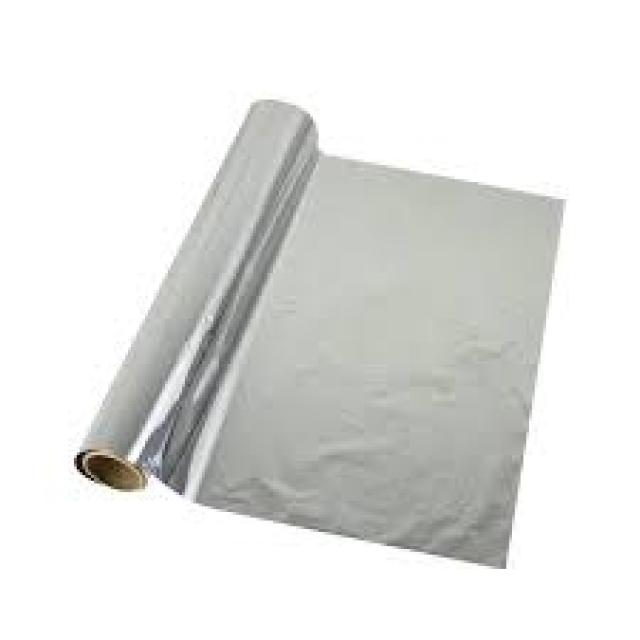metal: (74, 97, 563, 563)
